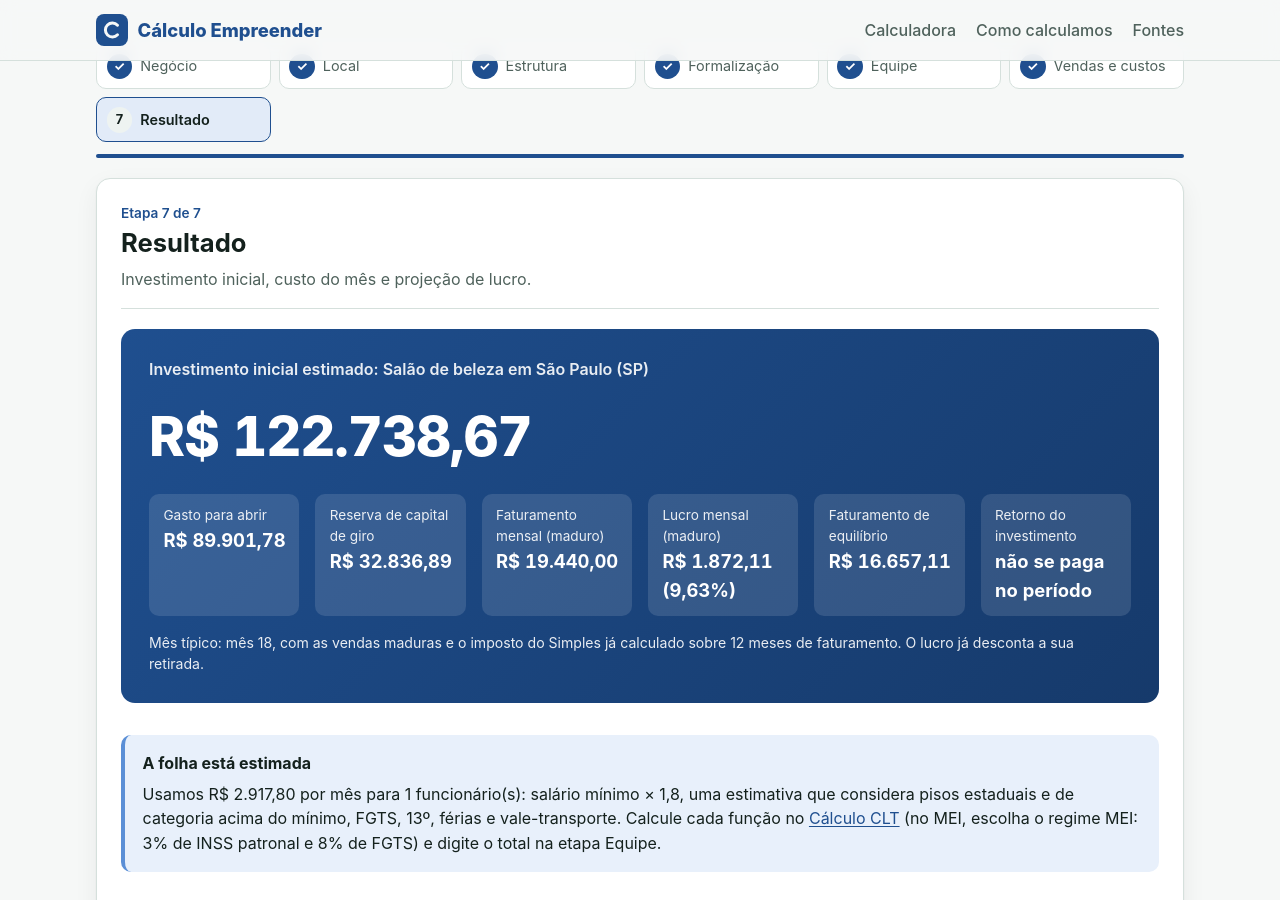
App › every business renders every step
Earlier steps of the test are not shown.
Later steps or results of the test are not shown.
(page scrolled)
Expected: the text with class "step__count" reads "Etapa 7 de 7", [121,205,201,221]
Click the button "✓ Negócio" at (183, 67), box [96,44,271,89]
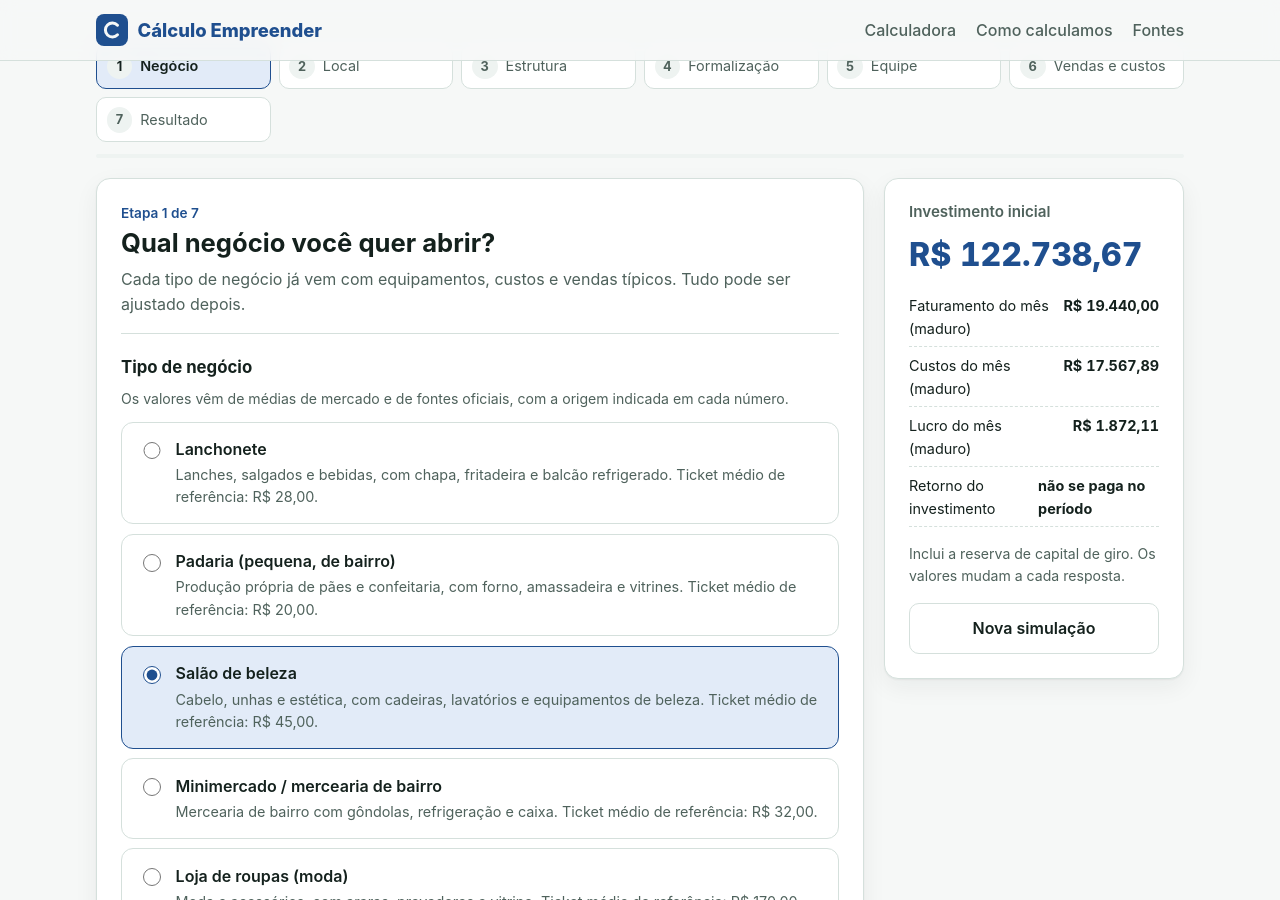
Click the 4th radio button at (152, 787), box [143,778,161,796]
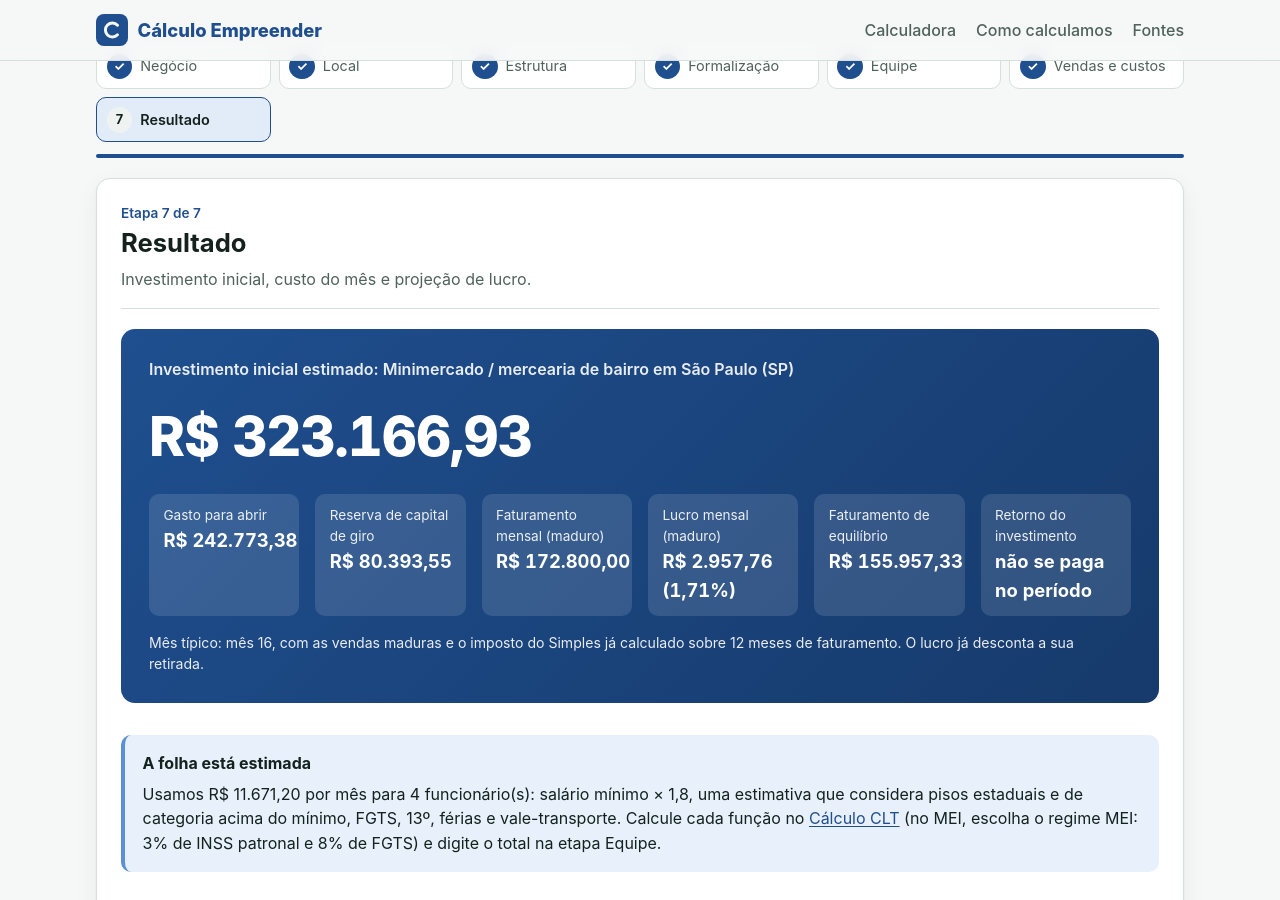
Expected: the text with class "step__count" reads "Etapa 7 de 7", [121,205,201,221]
Click the button "✓ Negócio" at (183, 67), box [96,44,271,89]
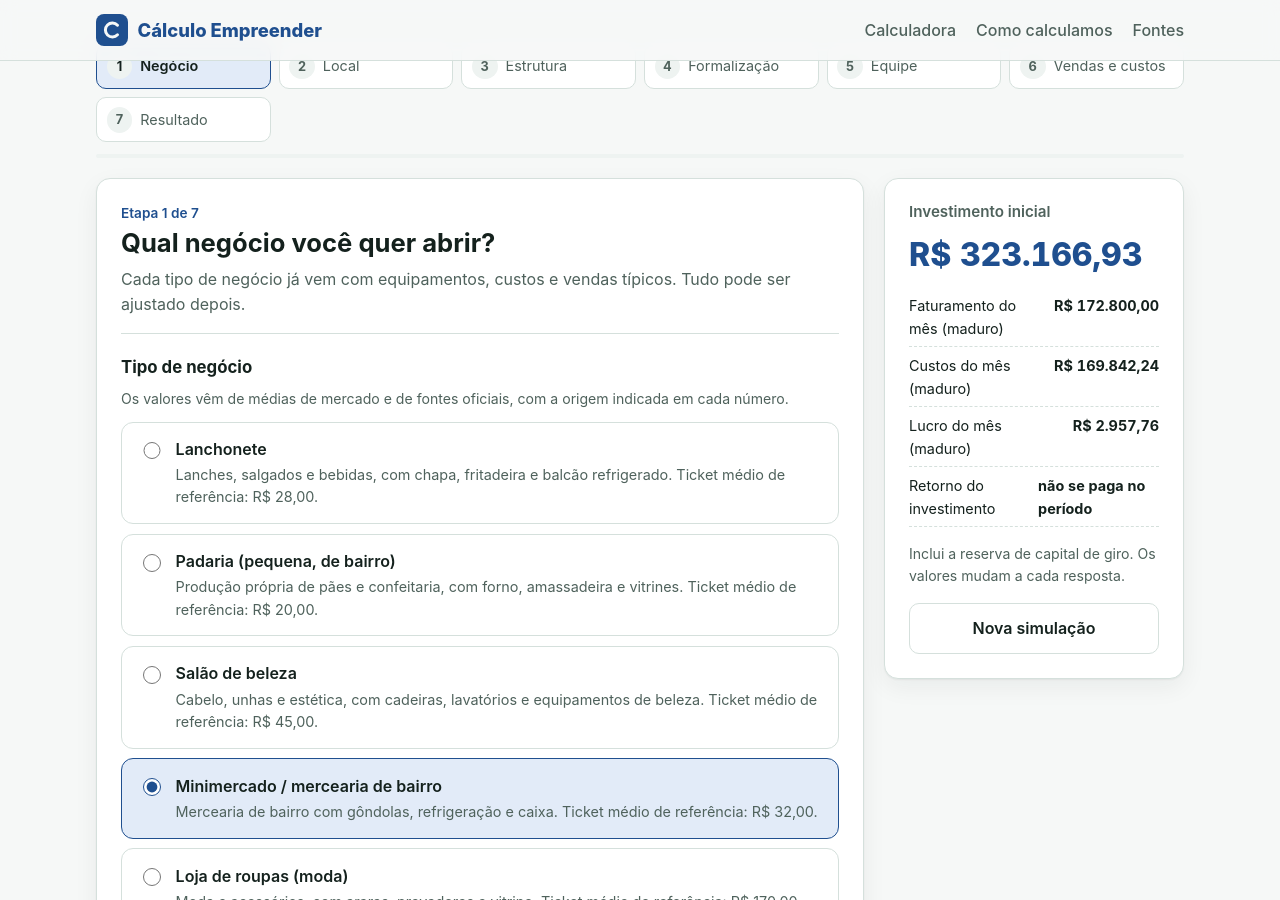
Click the 5th radio button at (152, 877), box [143,868,161,886]
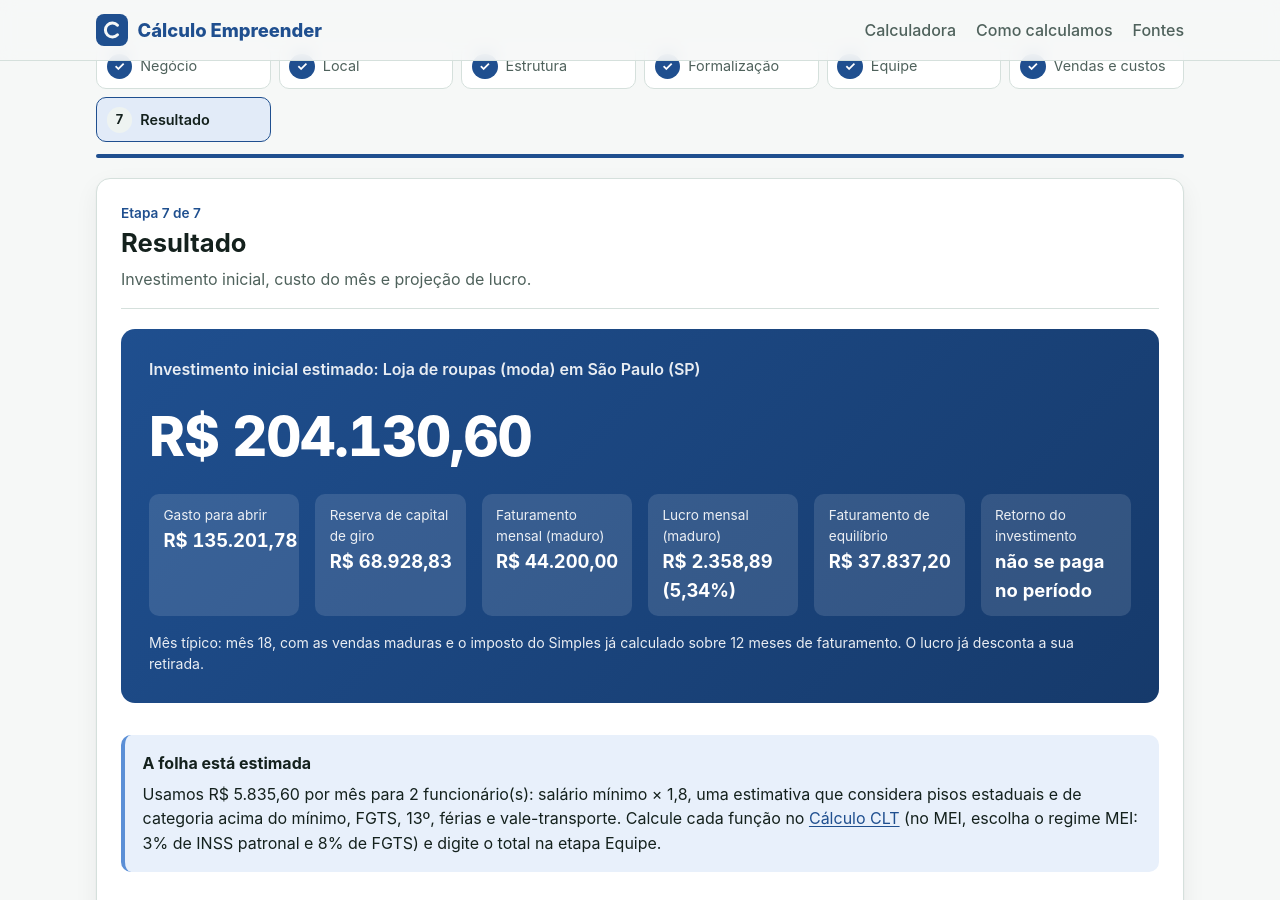
Expected: the text with class "step__count" reads "Etapa 7 de 7", [121,205,201,221]
Click the button "✓ Negócio" at (183, 67), box [96,44,271,89]
(page scrolled)
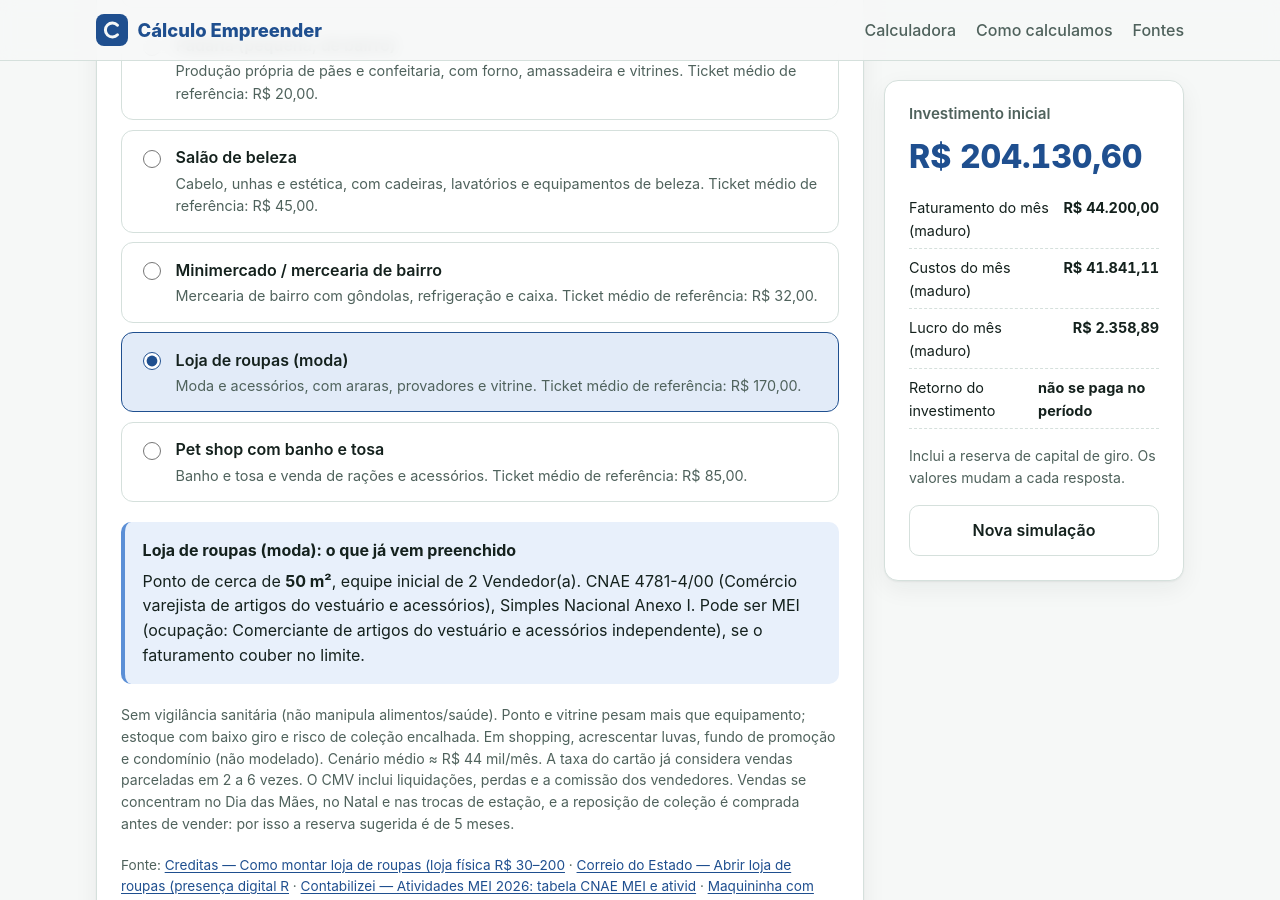
Click the 4th radio button at (152, 451), box [143,442,161,460]
(page scrolled)
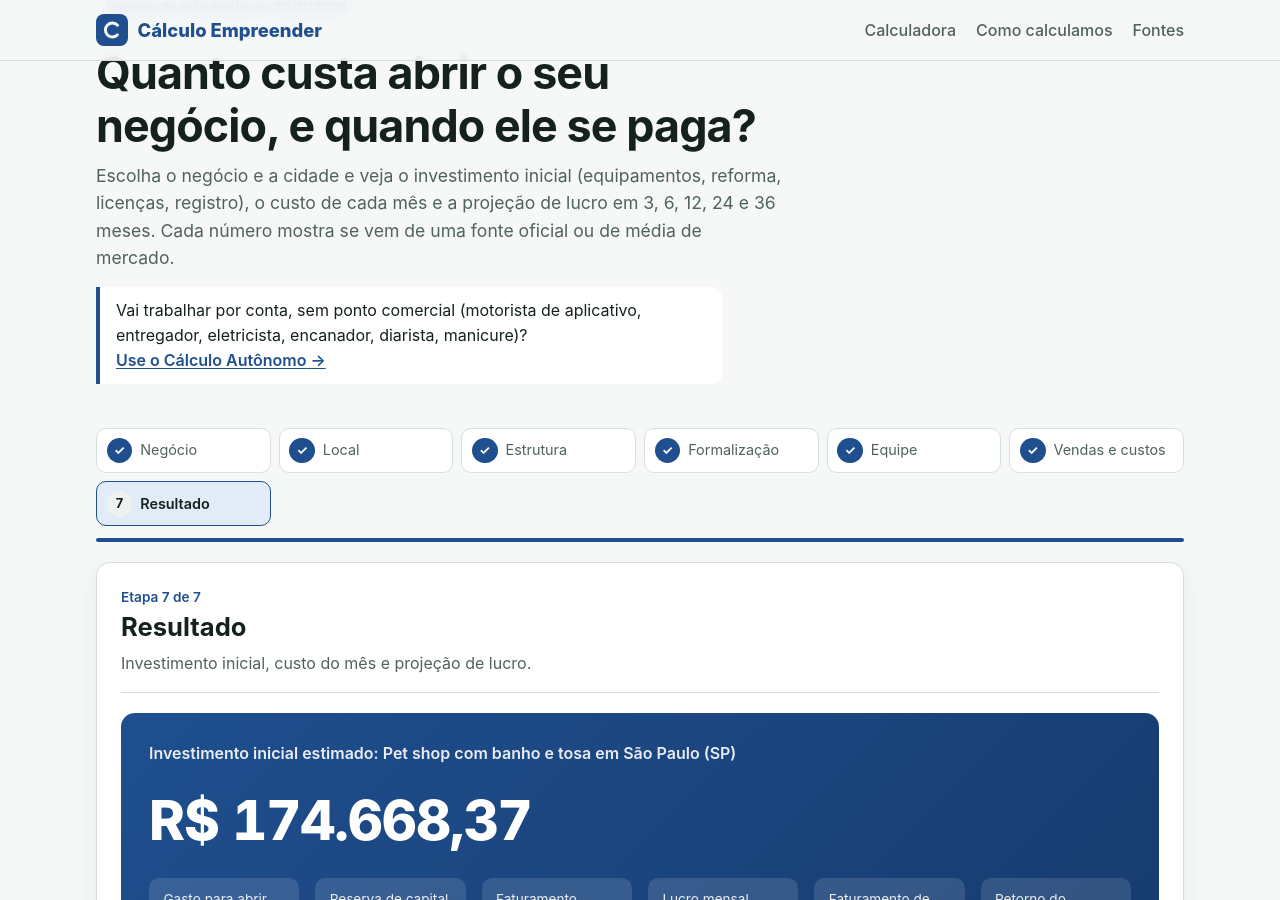
Expected: the text with class "step__count" reads "Etapa 7 de 7", [121,589,201,605]
